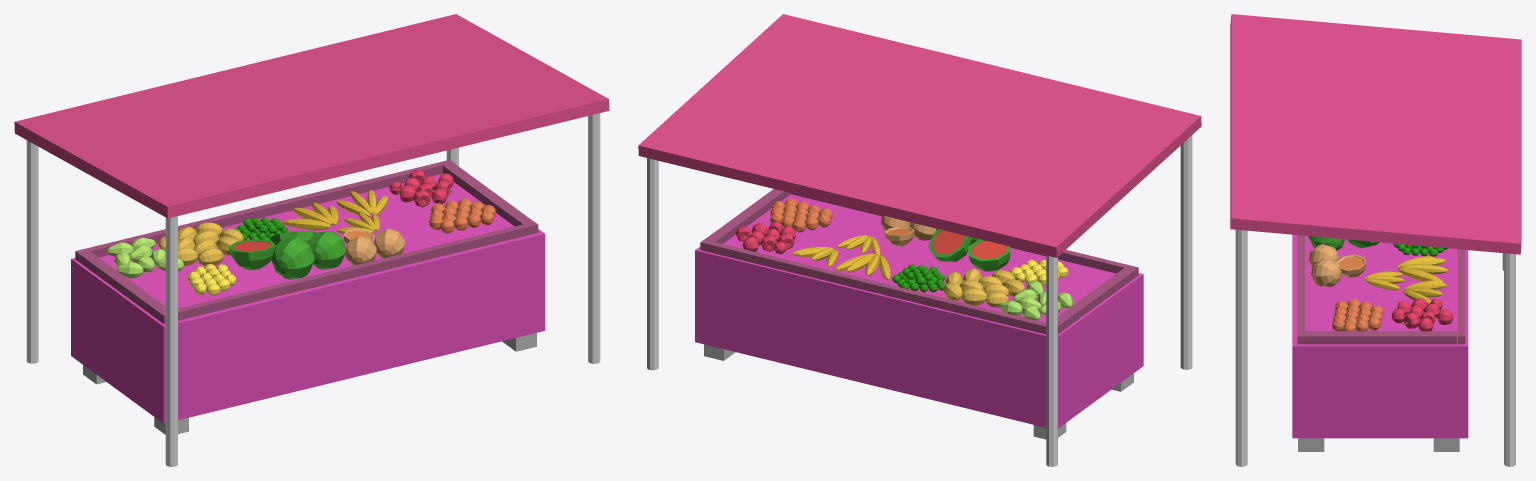
Rendered from Puesto_Mercado_Frutas.fbx.
The picture shows the model from 3 angles, left to right: view 1: azimuth 30°, elevation 25°; view 2: azimuth 150°, elevation 25°; view 3: azimuth 270°, elevation 25°; orthographic projection. The views are drawn at different scales.
Parts seen in each view (by area): view 1: Cube.081, Cube.082, Cube.093, Cube.092, Cylinder.051, Cylinder.054, Cylinder.052, Cube.094, Cube.095, Sphere.152, Sphere.149, Sphere.153 (+2 smaller); view 2: Cube.081, Cube.082, Cube.092, Cylinder.051, Cylinder.055, Cylinder.052, Cube.094, Cube.095, Sphere.149, Sphere.148, Cube.093; view 3: Cube.081, Cube.082, Cylinder.054, Cylinder.055, Cube.095, Cube.093, Cube.092, Sphere.150, Sphere.154, Sphere.151, Cube.084, Cube.099 (+3 smaller).
Boxes of the visible parts, left/top/right/bottom form: Cube.081: left=14, top=14, right=609, bottom=218; Cube.082: left=71, top=174, right=545, bottom=423; Cube.093: left=160, top=221, right=538, bottom=323; Cube.092: left=75, top=160, right=453, bottom=262; Cylinder.051: left=165, top=216, right=177, bottom=466; Cylinder.054: left=588, top=113, right=600, bottom=363; Cylinder.052: left=26, top=140, right=38, bottom=363; Cube.094: left=79, top=251, right=165, bottom=321; Cube.095: left=443, top=163, right=533, bottom=226; Sphere.152: left=271, top=237, right=314, bottom=279; Sphere.149: left=228, top=239, right=275, bottom=269; Sphere.153: left=308, top=231, right=345, bottom=269; Cube.081: left=638, top=14, right=1201, bottom=257; Cube.082: left=695, top=194, right=1143, bottom=428; Cube.092: left=700, top=239, right=1058, bottom=334; Cylinder.051: left=1180, top=135, right=1192, bottom=369; Cylinder.055: left=647, top=158, right=658, bottom=370; Cylinder.052: left=1046, top=255, right=1057, bottom=466; Cube.094: left=1058, top=267, right=1135, bottom=333; Cube.095: left=705, top=189, right=790, bottom=243; Sphere.149: left=968, top=239, right=1010, bottom=271; Sphere.148: left=928, top=229, right=971, bottom=261; Cube.093: left=791, top=193, right=1138, bottom=277; Cube.081: left=1230, top=14, right=1521, bottom=254; Cube.082: left=1292, top=234, right=1468, bottom=438; Cylinder.054: left=1235, top=229, right=1247, bottom=466; Cylinder.055: left=1504, top=253, right=1515, bottom=466; Cube.095: left=1304, top=331, right=1456, bottom=344; Cube.093: left=1297, top=235, right=1304, bottom=344; Cube.092: left=1457, top=249, right=1465, bottom=344; Sphere.150: left=1311, top=258, right=1341, bottom=286; Sphere.154: left=1337, top=254, right=1366, bottom=277; Sphere.151: left=1309, top=244, right=1339, bottom=267; Cube.084: left=1433, top=438, right=1459, bottom=451; Cube.099: left=1298, top=438, right=1324, bottom=451.
Size of the model in its own units: 12731 by 7661 by 7283.
